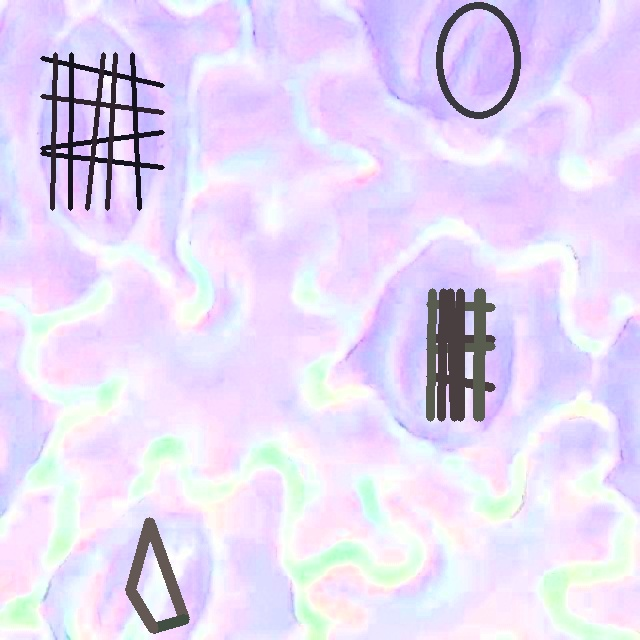open: (40, 52, 164, 210), (435, 3, 521, 118), (426, 288, 495, 421), (125, 518, 189, 633)
